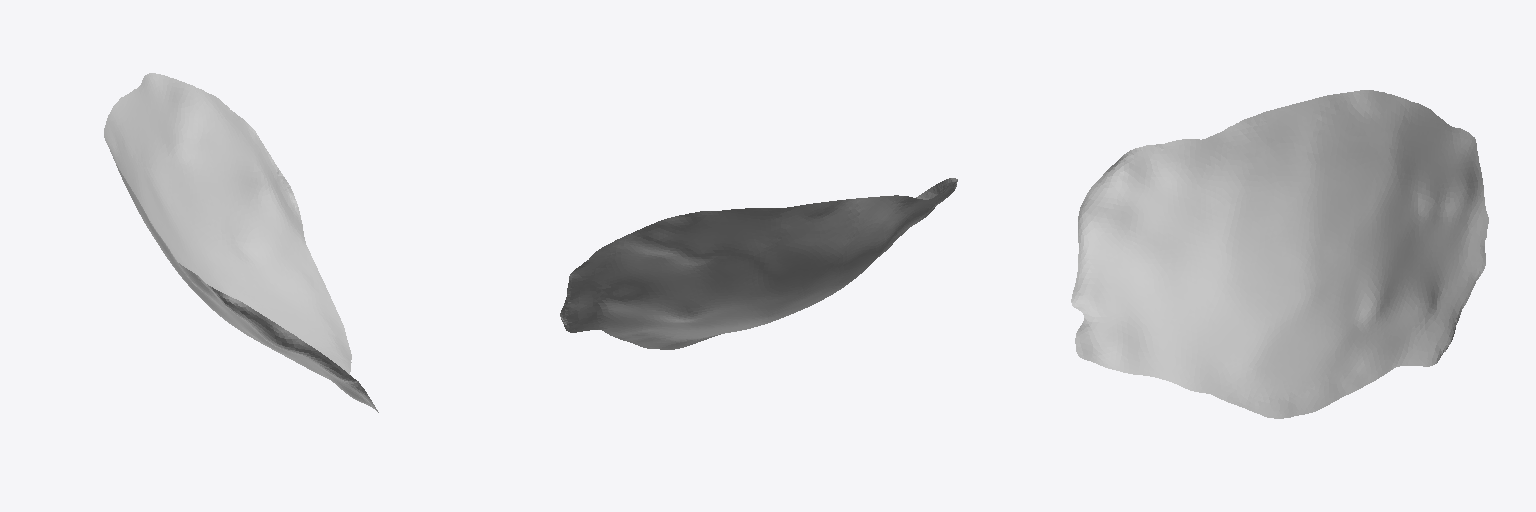
The model's file is Paciente3_fl_flex.obj.
The picture shows the model from 3 angles: view 1: azimuth 30°, elevation 25°; view 2: azimuth 150°, elevation 25°; view 3: azimuth 270°, elevation 25°; orthographic projection.
Parts seen in each view (by area): view 1: Paciente_3_fl_flex; view 2: Paciente_3_fl_flex; view 3: Paciente_3_fl_flex.
Boxes of the visible parts, <box> form: Paciente_3_fl_flex: <box>104,73,378,412</box>; Paciente_3_fl_flex: <box>560,178,957,349</box>; Paciente_3_fl_flex: <box>1071,90,1488,418</box>.
Bounding box in the file's own units: 15.85 × 14.46 × 23.22.